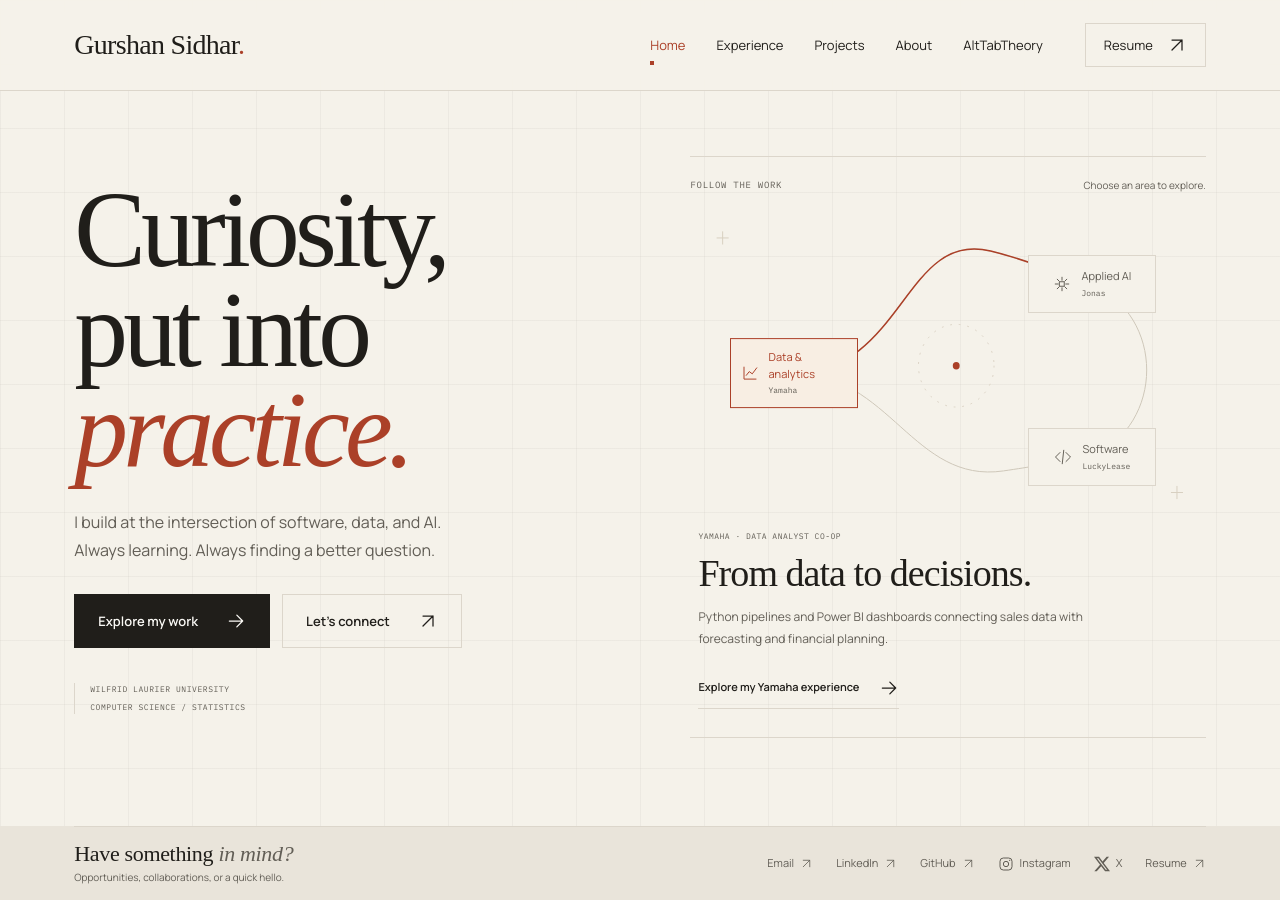
Test: curved work map switches areas by keyboard and links to the relevant work
Press ArrowRight in the tab "Data & analytics Yamaha", box [730,338,858,408]
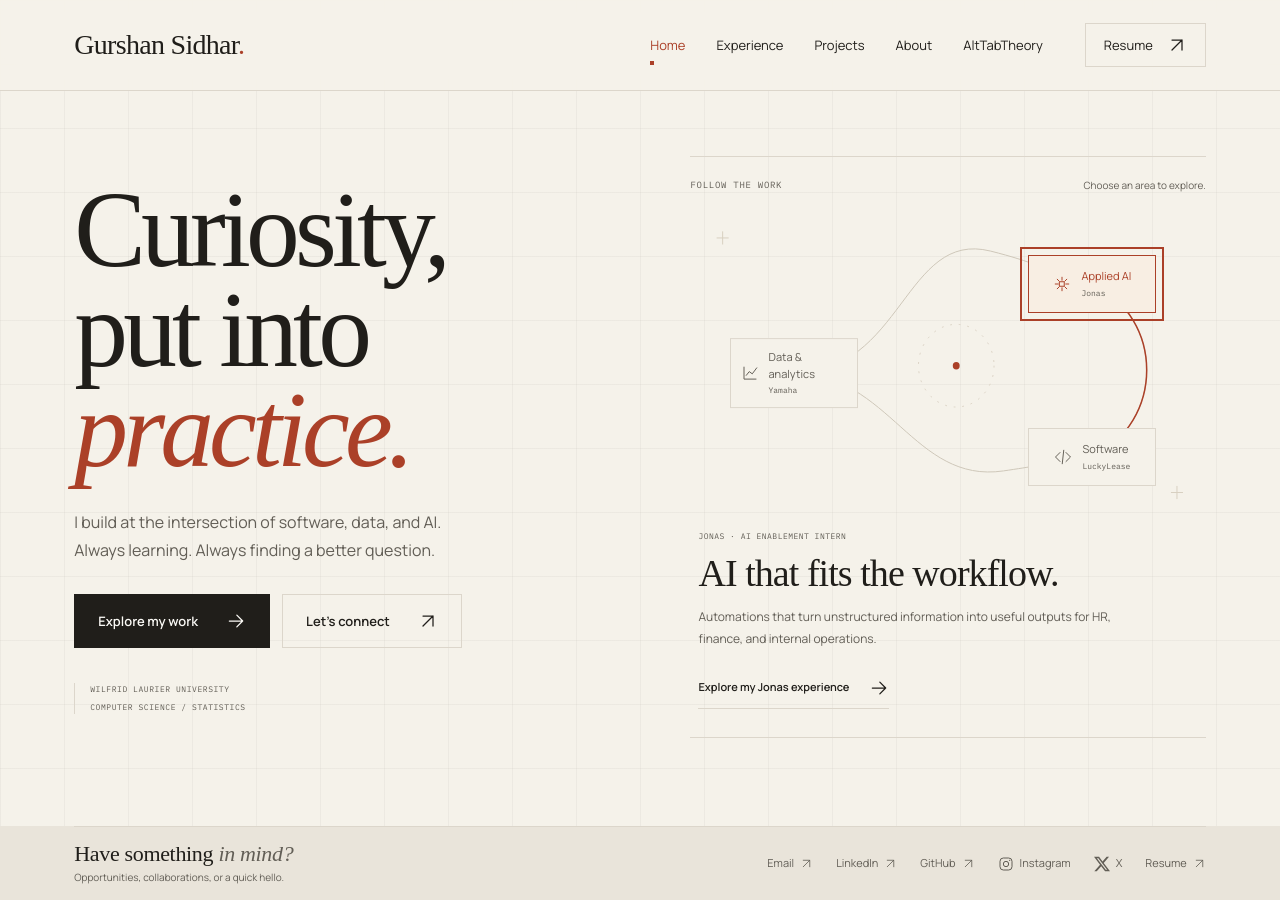
Now the panel shows "JONAS · AI ENABLEMENT INTERN", box [698,531,846,541]
Click the tab "Software LuckyLease". click: point(1092, 457)
box: [1028,428,1156,486]
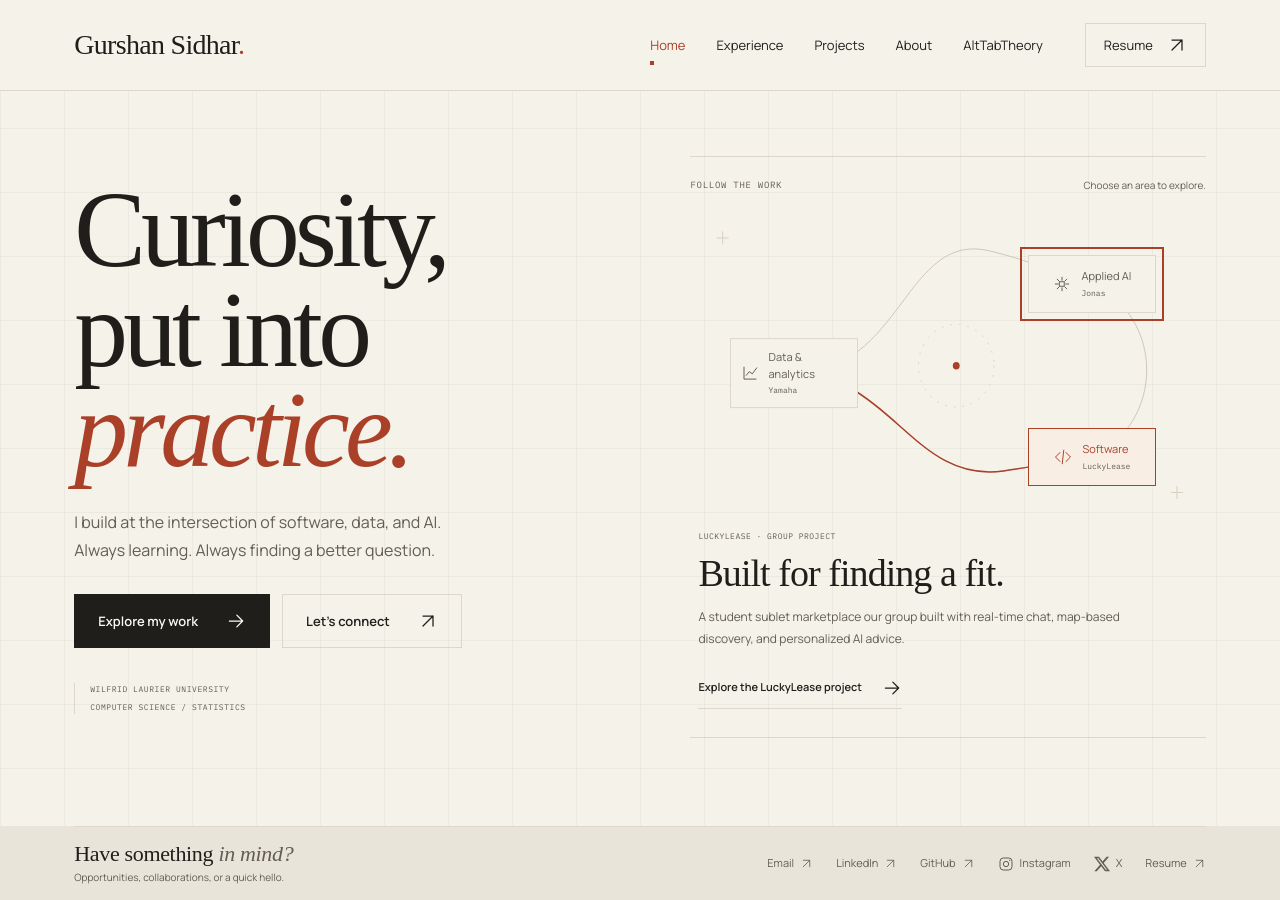
Now the link "Explore the LuckyLease project" has attribute href="/projects/lucky-lease", box [698,668,902,709]
Press Home in the tab "Software LuckyLease", box [1028,428,1156,486]
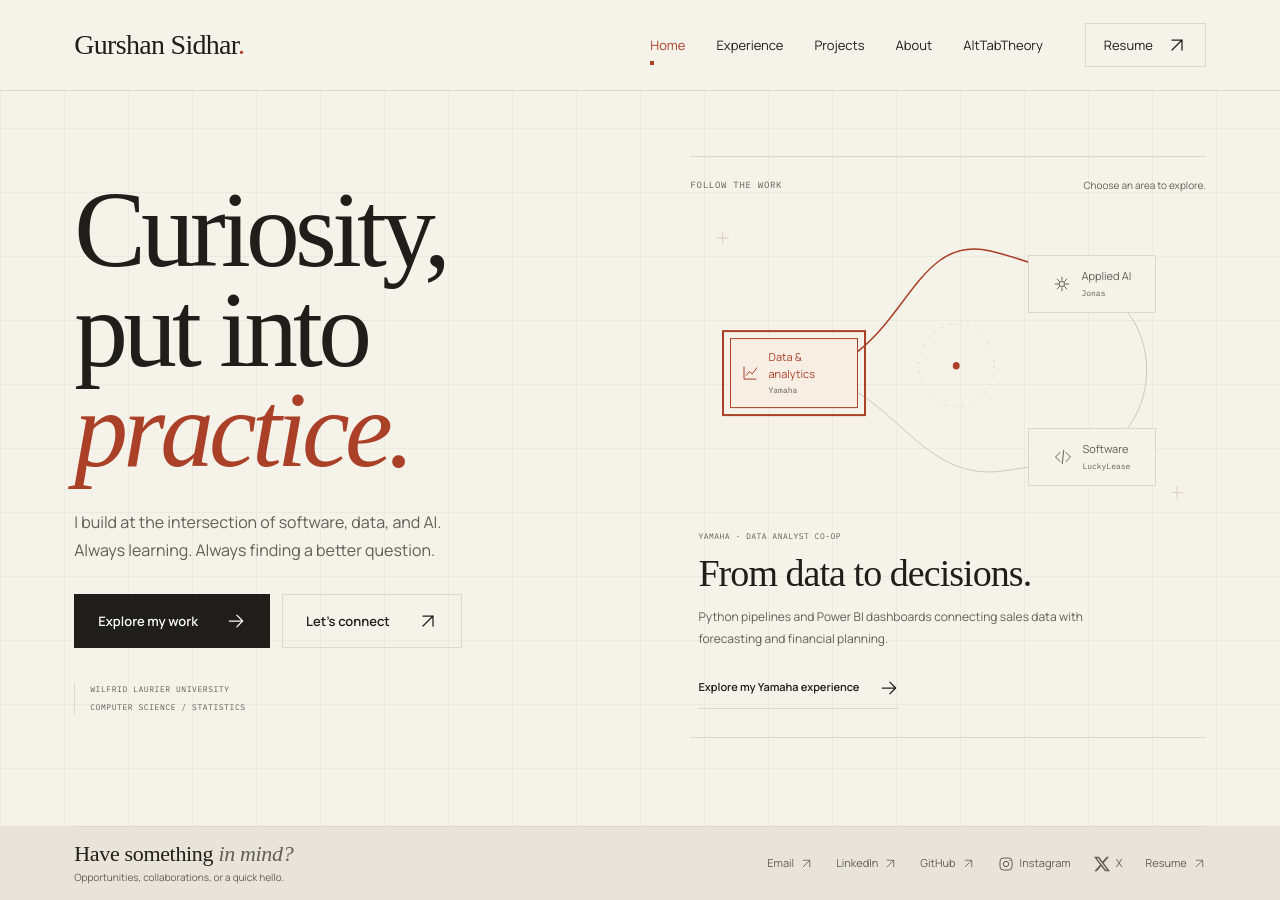
Now the panel shows "Python pipelines", box [698,608,1083,648]
